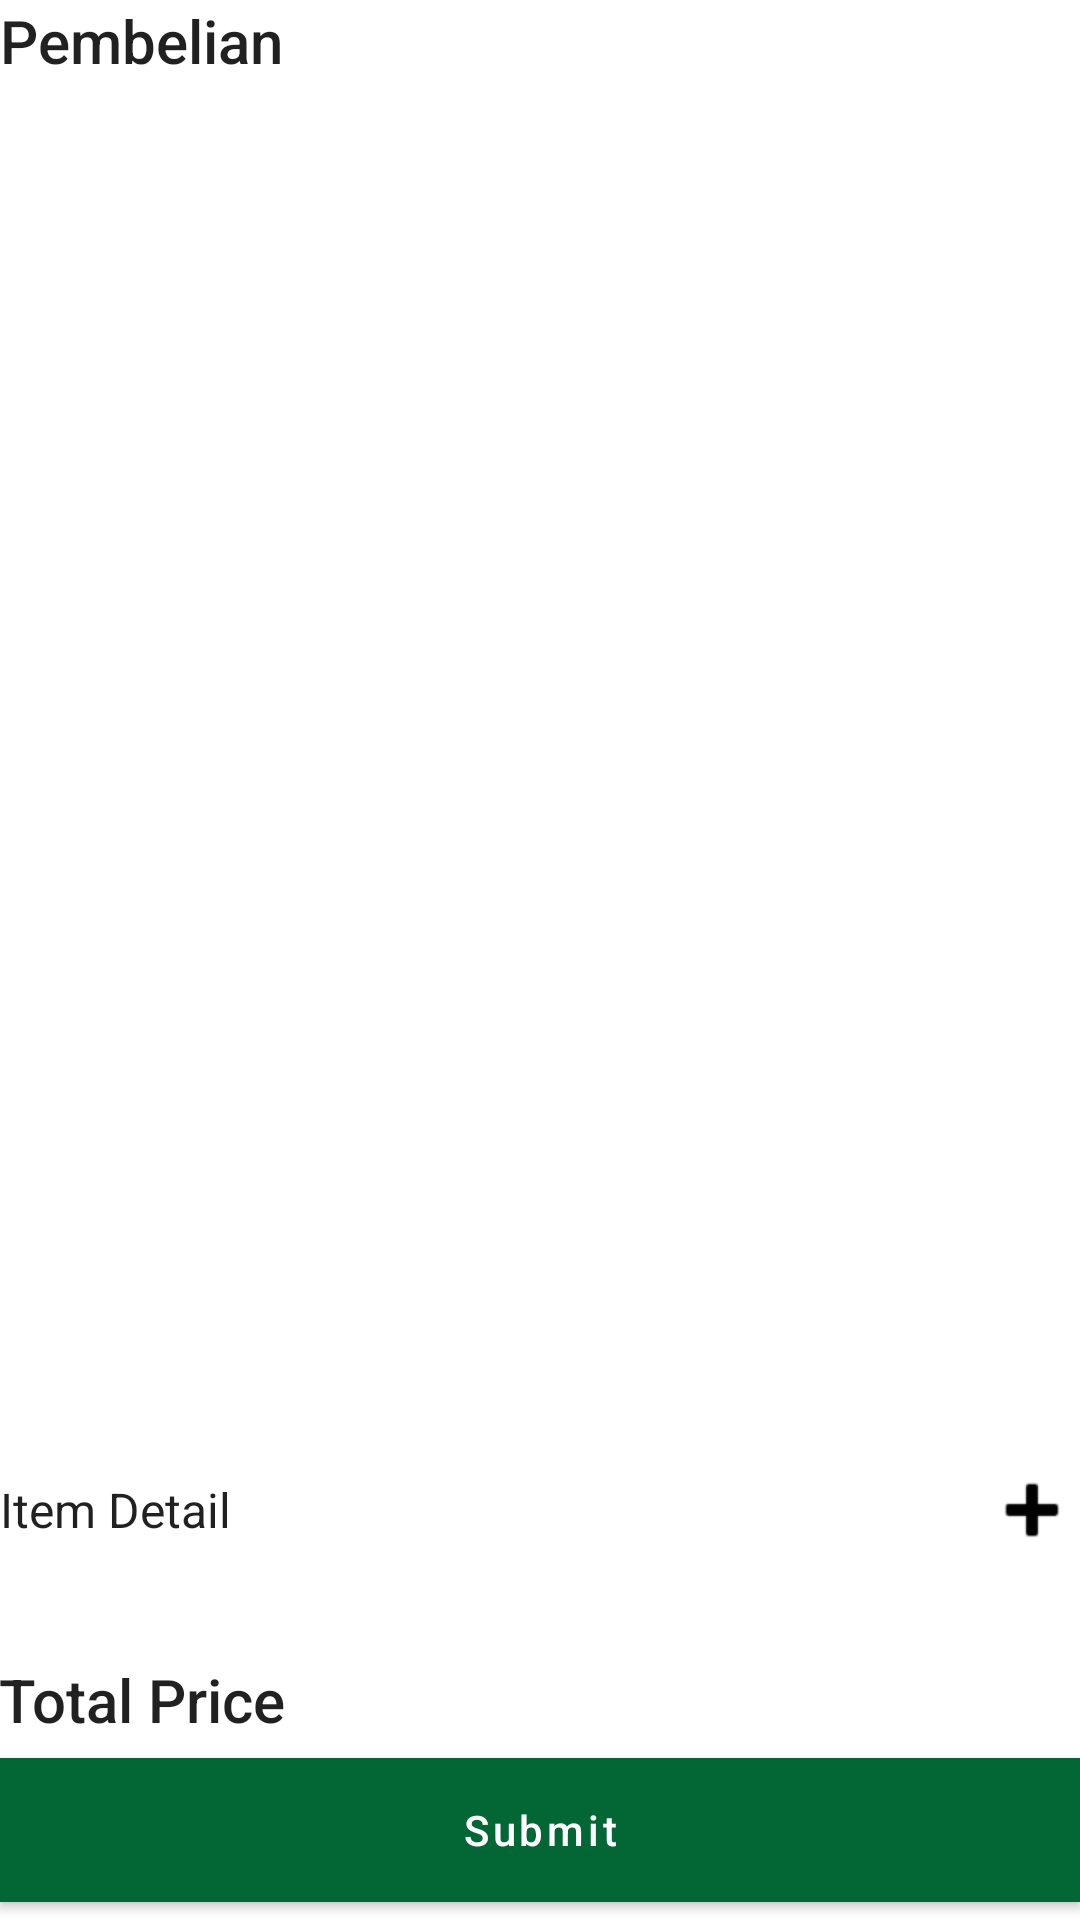

Point at icon controls on the screen. Image size 1080px x 1920px, points as [x,y].
add: [1032,1510]
